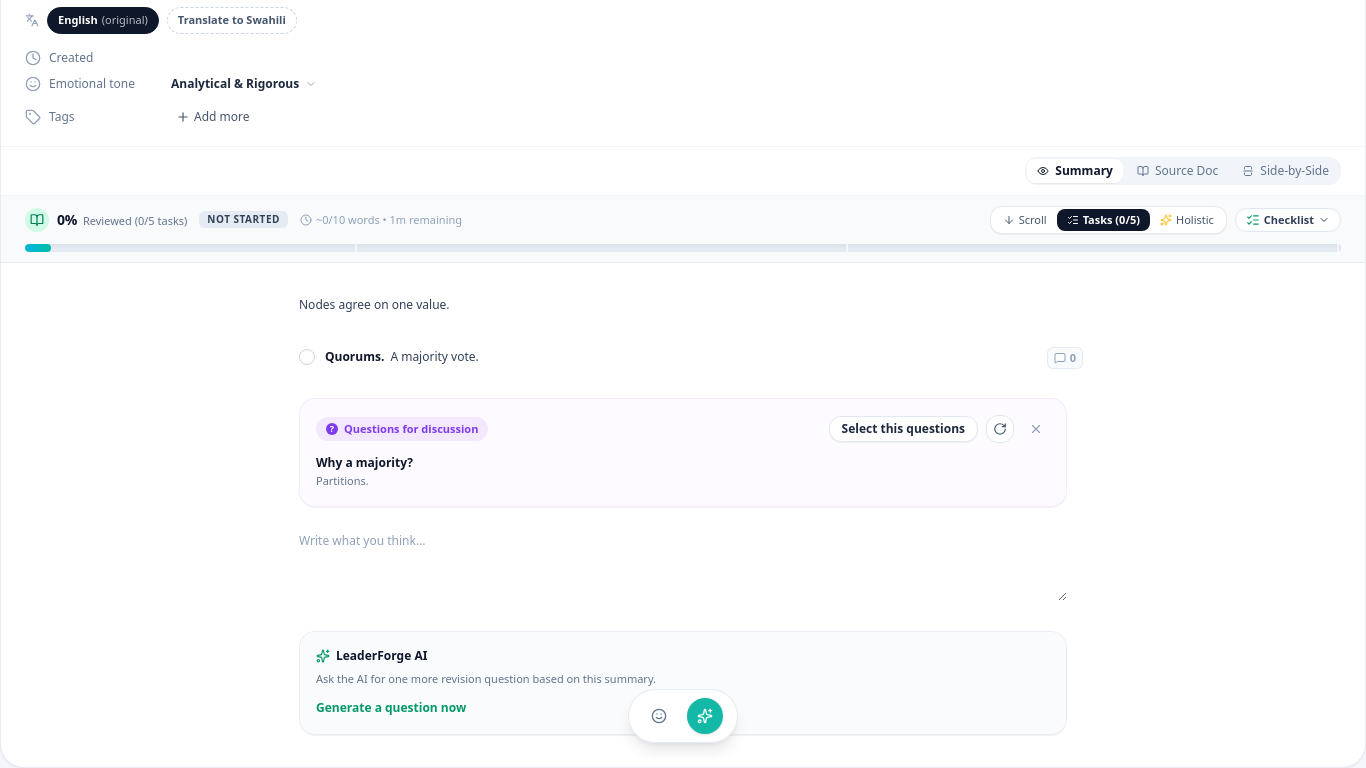
Test case: MainEditorView: rating and question generation › shows the failure instead of inventing a question, and leaves the questions as they were
(page scrolled)
Click the button "Generate a question now" at (391, 708), box [316,700,466,716]
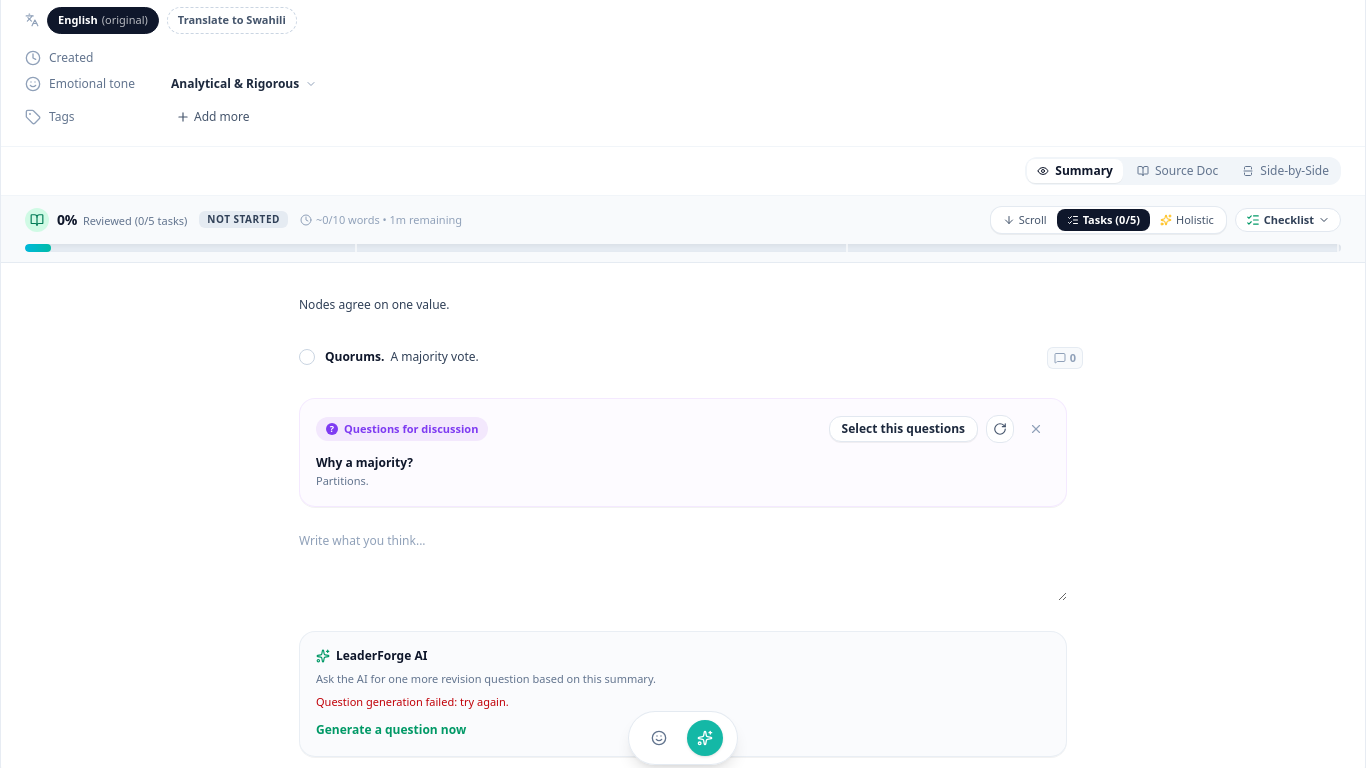
Expected: the heading "Why a majority?" is shown, [316,454,413,471]
Now the message shows "Question generation failed", box [316,694,509,708]
